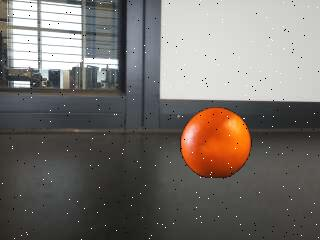Orange: (181, 107, 252, 180)
